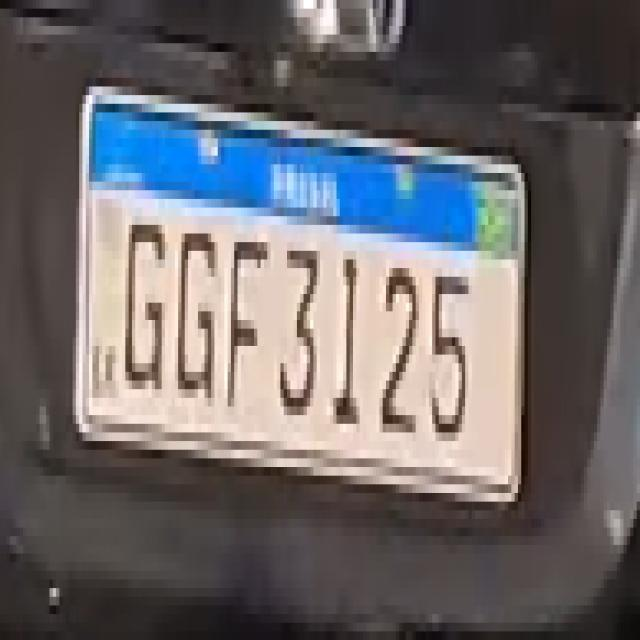Placa_mercosul_carro: (77, 80, 525, 505)
